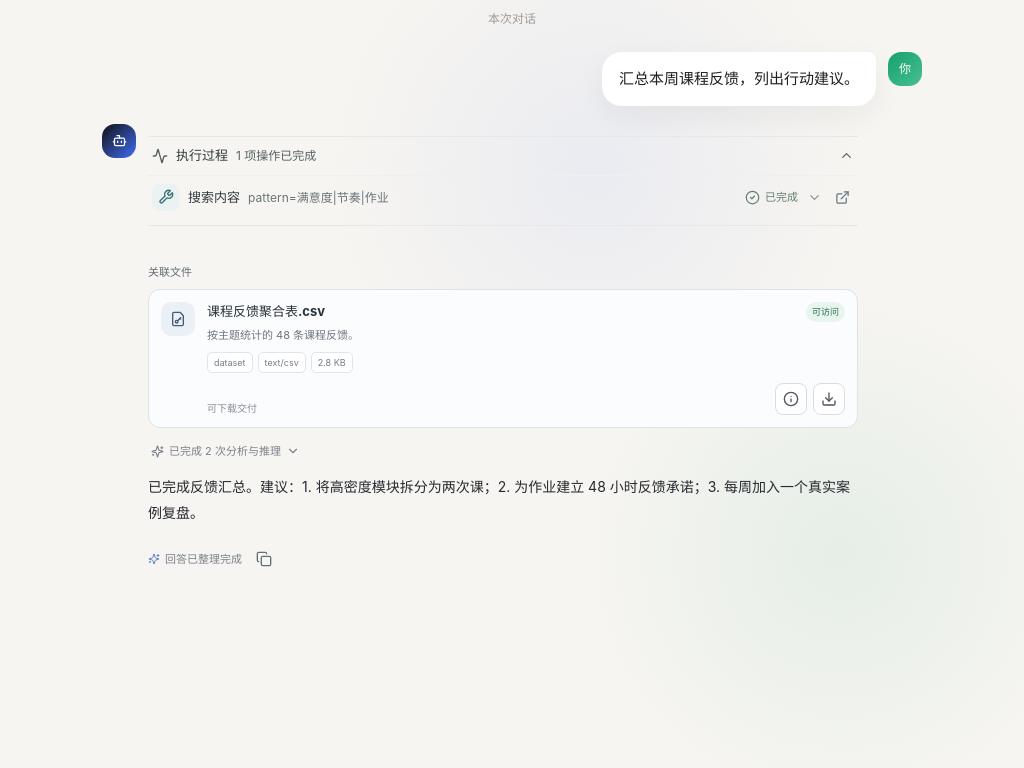
Test: ConversationStream › 终态过程默认展示工具行，用户仍可收起整个过程
expect the button named "在工作区查看 搜索内容" is shown: met, box [826,176,858,219]
What coordinates should you click on to do the following:
click the button "执行过程 1 项操作已完成"
I would click on:
 (202, 155)
Its box is [148,137,858,175].
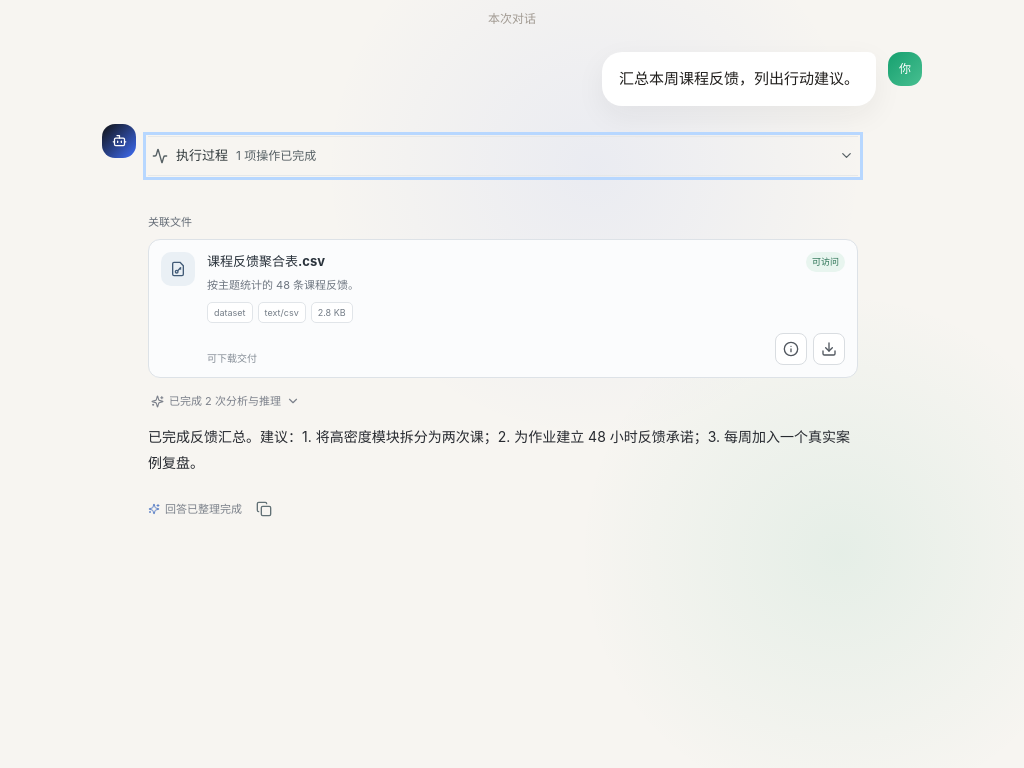
expect the button "执行过程 1 项操作已完成" is collapsed: met, box [148,137,858,175]
